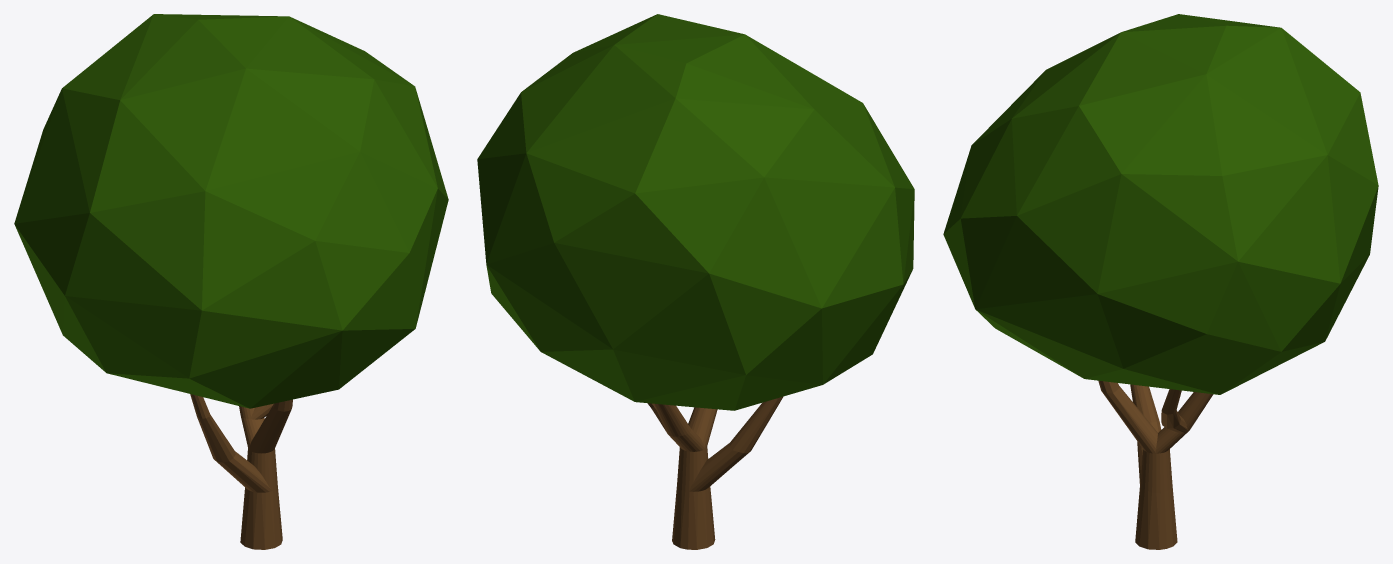
Rendered from Bush1.fbx.
The picture shows the model from 3 angles, left to right: view 1: azimuth 30°, elevation 25°; view 2: azimuth 150°, elevation 25°; view 3: azimuth 270°, elevation 25°; orthographic projection.
Parts seen in each view (by area): view 1: Bush, Trunk; view 2: Bush, Trunk; view 3: Bush, Trunk.
Part boxes in pixels (x1,y1,x2,y2): Bush: (14, 14, 448, 408); Trunk: (190, 394, 292, 549); Bush: (477, 14, 914, 410); Trunk: (647, 396, 783, 549); Bush: (943, 14, 1378, 394); Trunk: (1098, 380, 1213, 549).
Bounding box in the file's own units: 85.41 × 109 × 86.01.
